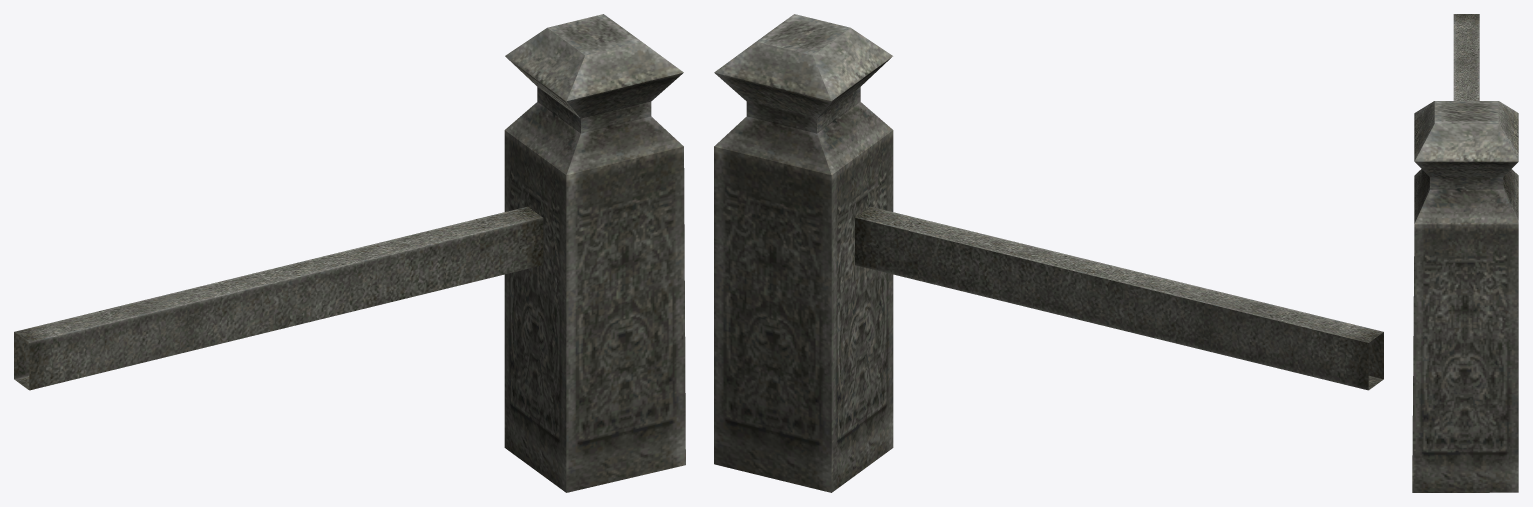
Rendered from stadium_02_03.fbx.
3 views of the same model, side by side, from view 1: azimuth 30°, elevation 25°; view 2: azimuth 150°, elevation 25°; view 3: azimuth 270°, elevation 25° (orthographic). The views are drawn at different scales.
Visible parts, largest first — view 1: stadium_02_03; view 2: stadium_02_03; view 3: stadium_02_03.
Boxes of the visible parts, x1,y1,x2,y2 form: stadium_02_03: (14, 14, 685, 492); stadium_02_03: (714, 14, 1383, 492); stadium_02_03: (1412, 14, 1518, 492).
Size of the model in its own units: 5.65 by 3.6 by 0.9769.
